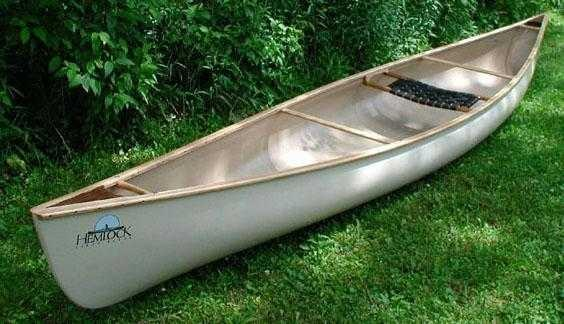kayak: (35, 19, 548, 312)
